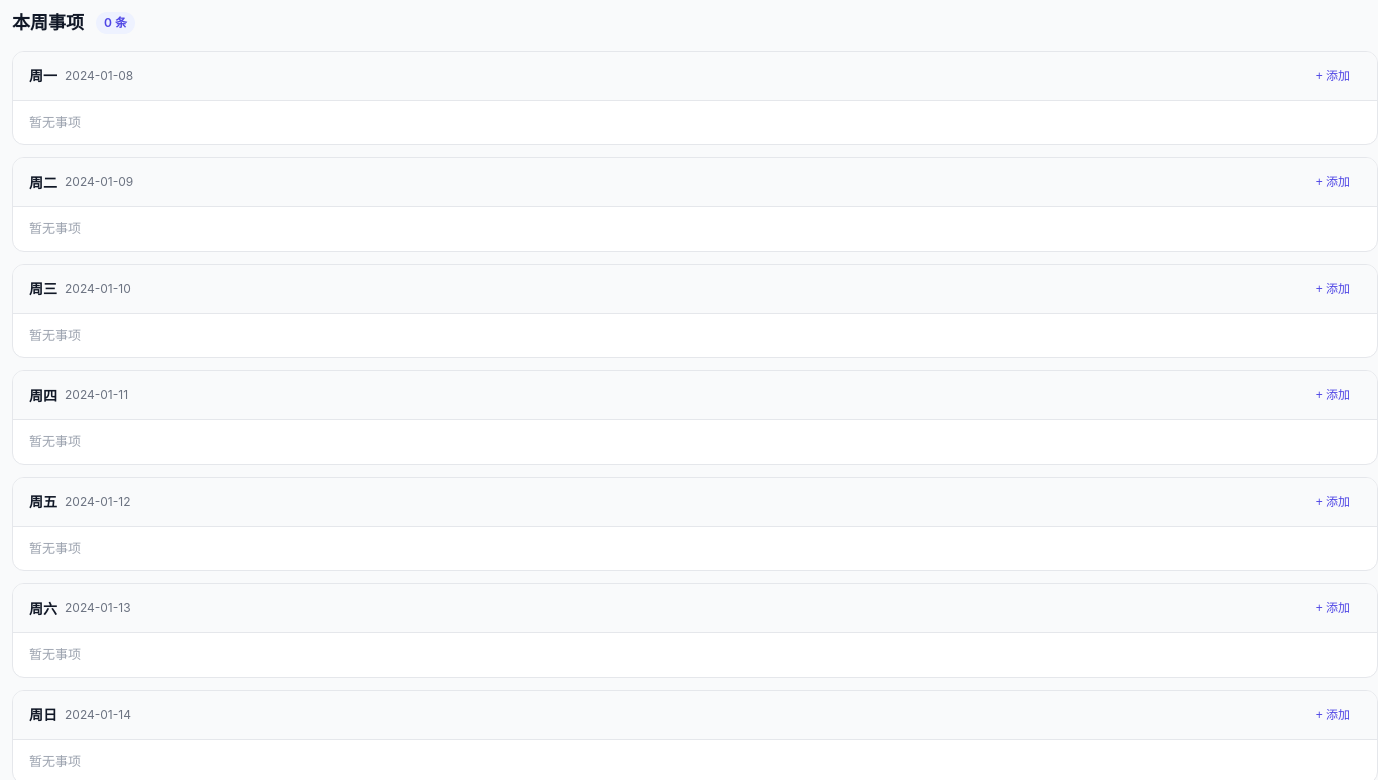
Test: RecordList › 点击"添加"按钮应显示输入框
What coordinates should you click on to do the following:
click the button with test id "add-record-btn-2024-01-08"
I would click on:
 (1333, 76)
Its box is [1305, 64, 1361, 88].
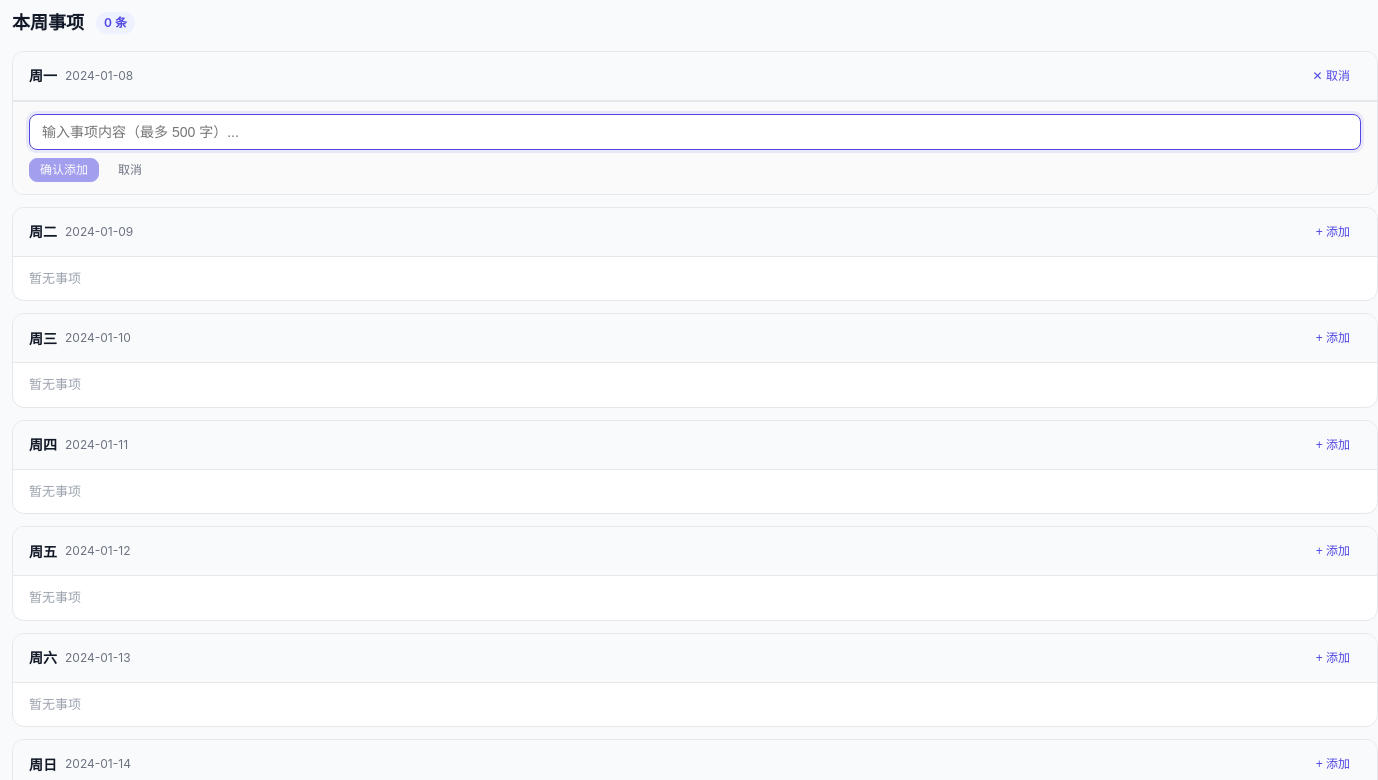
Now the field with test id "new-record-input" is shown, box [29, 114, 1361, 150]
